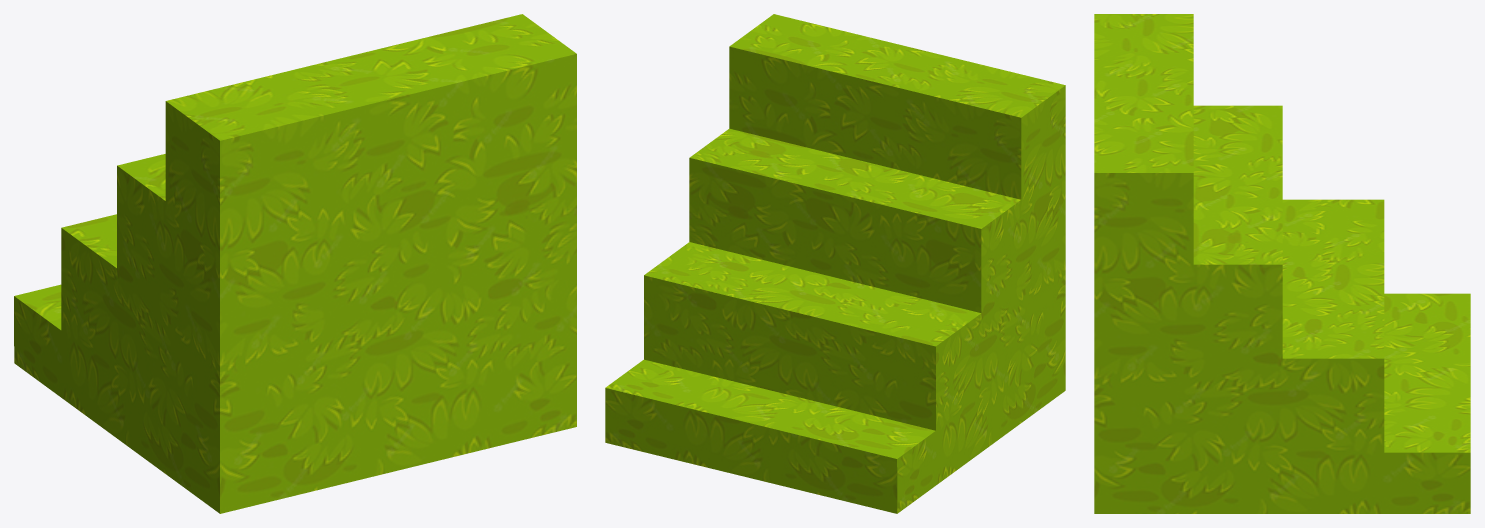
Rendered from POL0510006.fbx.
The picture shows the model from 3 angles, left to right: view 1: azimuth 30°, elevation 25°; view 2: azimuth 150°, elevation 25°; view 3: azimuth 270°, elevation 25°; orthographic projection. The views are drawn at different scales.
Parts seen in each view (by area): view 1: smPOL0510006; view 2: smPOL0510006; view 3: smPOL0510006.
Boxes of the visible parts, x1=… form: smPOL0510006: x1=14, y1=14, x2=576, y2=513; smPOL0510006: x1=605, y1=14, x2=1065, y2=513; smPOL0510006: x1=1094, y1=14, x2=1470, y2=513.
Bounding box in the file's own units: 161 × 161 × 161.
1 material, 1 textured.
